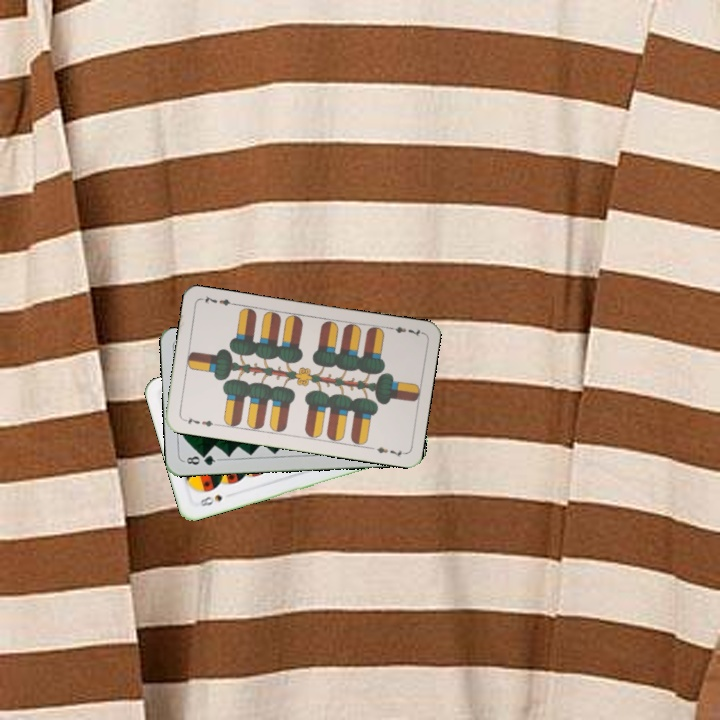E7: (179, 412, 220, 429), (384, 323, 424, 339)
G8: (180, 450, 221, 468)
S8: (196, 490, 225, 509)
